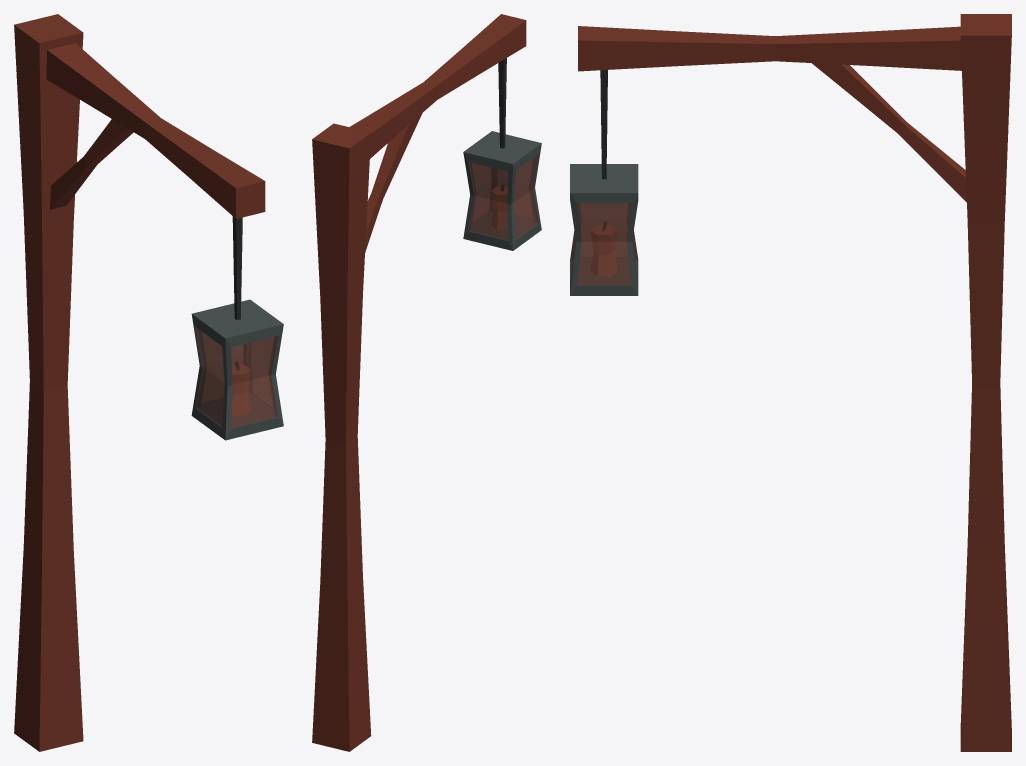
File: Lamp_1_Red.fbx
The picture shows the model from 3 angles, left to right: view 1: azimuth 30°, elevation 25°; view 2: azimuth 150°, elevation 25°; view 3: azimuth 270°, elevation 25°; orthographic projection. The views are drawn at different scales.
Parts seen in each view (by area): view 1: Lamp_1_Red_Part_1, Lamp_1_Red_Part_3, Lamp_1_Red_Part_4, Lamp_1_Red_Part_2, Lamp_1_Red_Part_5; view 2: Lamp_1_Red_Part_1, Lamp_1_Red_Part_3, Lamp_1_Red_Part_4, Lamp_1_Red_Part_2, Lamp_1_Red_Part_5; view 3: Lamp_1_Red_Part_1, Lamp_1_Red_Part_3, Lamp_1_Red_Part_4, Lamp_1_Red_Part_5, Lamp_1_Red_Part_2.
Part boxes in pixels (<box>): Lamp_1_Red_Part_1: <box>14,14,265,751</box>; Lamp_1_Red_Part_3: <box>191,299,283,440</box>; Lamp_1_Red_Part_4: <box>195,327,277,428</box>; Lamp_1_Red_Part_2: <box>232,216,242,319</box>; Lamp_1_Red_Part_5: <box>232,365,250,415</box>; Lamp_1_Red_Part_1: <box>312,14,526,751</box>; Lamp_1_Red_Part_3: <box>463,131,541,250</box>; Lamp_1_Red_Part_4: <box>468,154,538,240</box>; Lamp_1_Red_Part_2: <box>498,58,506,148</box>; Lamp_1_Red_Part_5: <box>491,187,507,229</box>; Lamp_1_Red_Part_1: <box>578,14,1011,751</box>; Lamp_1_Red_Part_3: <box>570,164,638,295</box>; Lamp_1_Red_Part_4: <box>570,203,638,285</box>; Lamp_1_Red_Part_5: <box>591,225,617,275</box>; Lamp_1_Red_Part_2: <box>600,70,607,179</box>.
Bounding box in the file's own units: 25.92 × 300 × 168.
